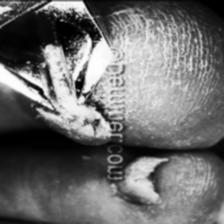Toxin: (126, 154, 170, 208), (44, 51, 74, 117), (79, 108, 109, 149)
